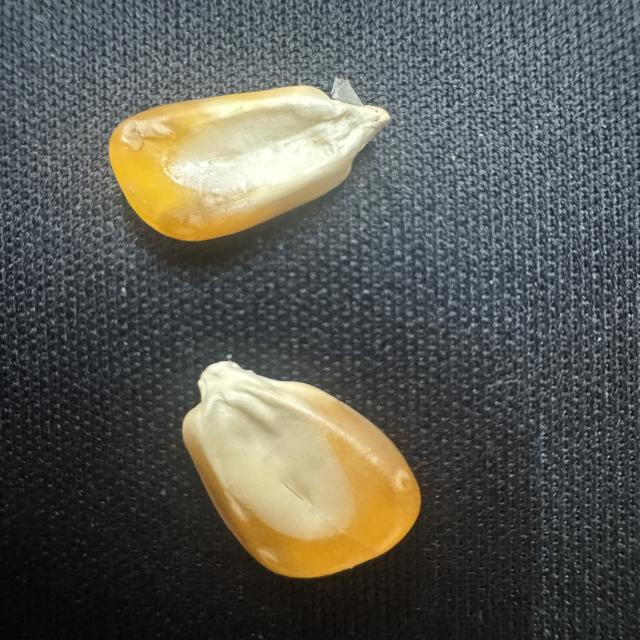Good-Seed: (175, 356, 427, 582), (105, 79, 396, 245)
